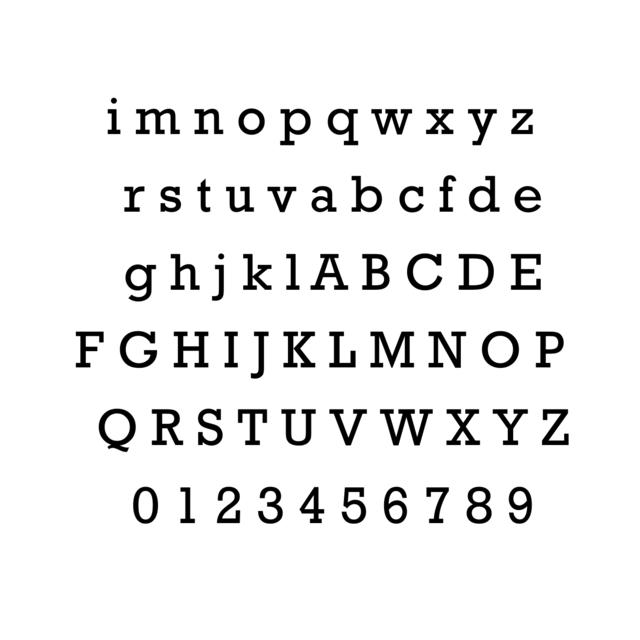alphabet: (96, 407, 137, 455), (370, 330, 415, 370), (327, 407, 370, 448), (480, 330, 521, 371), (118, 332, 158, 372), (170, 331, 211, 370), (407, 252, 444, 294), (454, 254, 495, 291), (426, 331, 464, 370), (280, 407, 316, 448), (312, 254, 349, 292), (491, 408, 528, 446), (445, 408, 480, 446), (151, 408, 184, 446), (532, 330, 563, 370), (328, 106, 359, 146), (510, 253, 543, 290), (169, 254, 201, 292), (468, 172, 498, 212), (236, 408, 267, 446), (372, 109, 414, 137), (124, 263, 152, 304), (136, 107, 178, 134), (196, 407, 224, 447), (359, 254, 388, 292), (541, 408, 570, 445), (340, 485, 367, 524), (284, 106, 310, 146), (132, 486, 158, 526), (465, 484, 491, 524), (259, 485, 285, 525), (215, 485, 241, 525), (327, 331, 353, 370), (383, 484, 408, 524), (424, 486, 450, 524), (508, 485, 533, 524), (300, 484, 323, 524), (267, 187, 301, 214), (242, 253, 265, 291), (194, 107, 224, 135), (237, 107, 265, 136), (226, 185, 256, 212), (357, 180, 382, 212), (296, 332, 317, 370), (514, 184, 542, 212), (310, 186, 338, 214), (282, 331, 302, 370), (400, 184, 426, 212), (178, 485, 196, 524), (281, 408, 298, 449), (222, 330, 238, 370), (400, 330, 416, 370), (160, 184, 182, 213), (284, 253, 300, 291), (124, 185, 146, 211), (197, 177, 212, 213), (350, 174, 364, 212)
